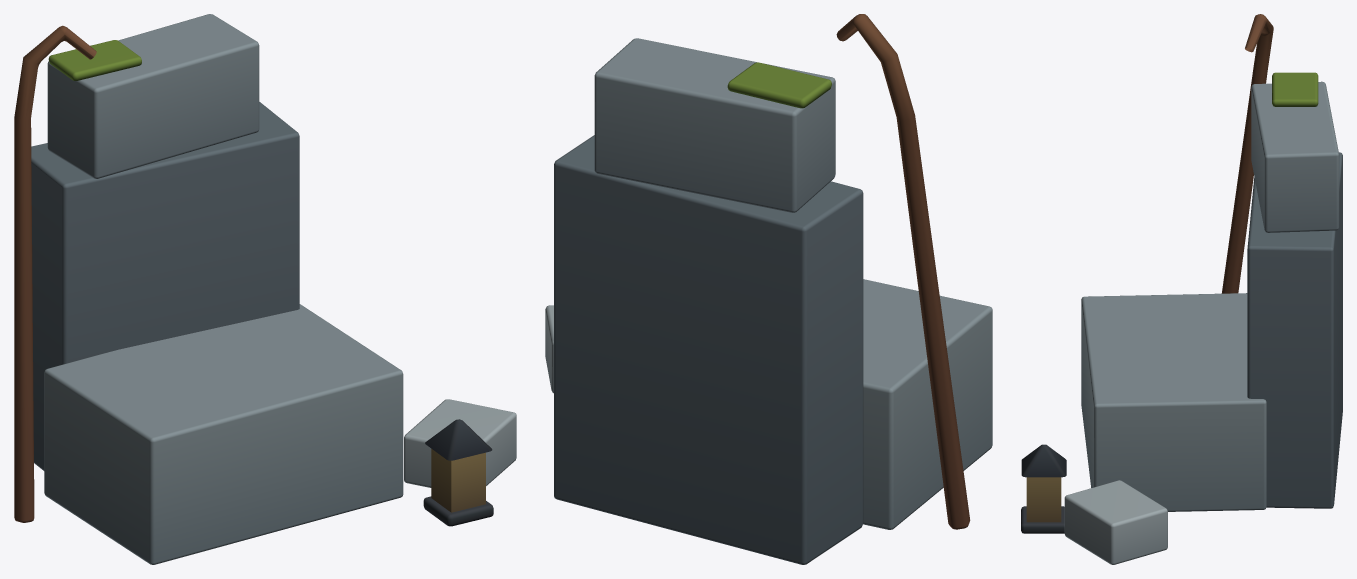
Rendered from watch_stone.glb.
The picture shows the model from 3 angles, left to right: view 1: azimuth 30°, elevation 25°; view 2: azimuth 150°, elevation 25°; view 3: azimuth 270°, elevation 25°; orthographic projection. The views are drawn at different scales.
Visible parts, largest first — view 1: watch_stone, watch_stone_trim; view 2: watch_stone; view 3: watch_stone, watch_stone_trim.
Part boxes in pixels (left/top/right/bottom): watch_stone: left=14, top=14, right=516, bottom=564; watch_stone_trim: left=431, top=449, right=485, bottom=512; watch_stone: left=545, top=14, right=992, bottom=564; watch_stone: left=1021, top=14, right=1342, bottom=564; watch_stone_trim: left=1026, top=477, right=1061, bottom=522.
Bounding box in the file's own units: 1.52 × 1.52 × 1.12.
